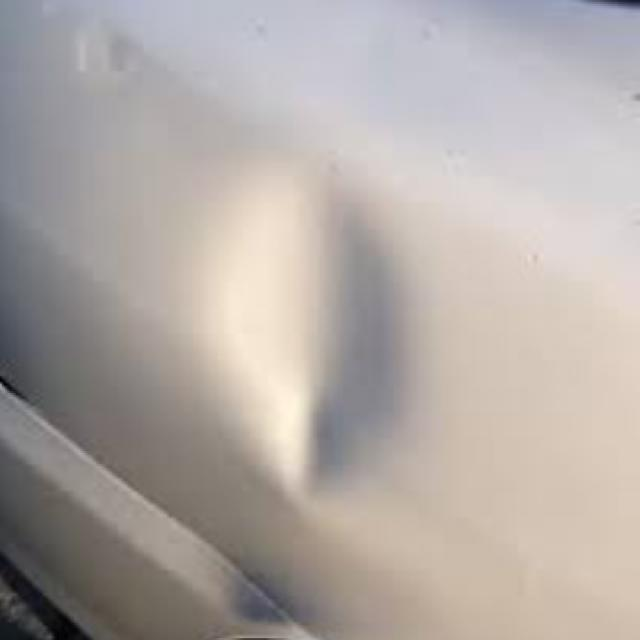dents: (183, 174, 482, 527), (63, 24, 162, 105)
